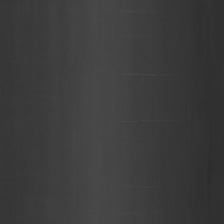waist_folding: (115, 19, 187, 200)
